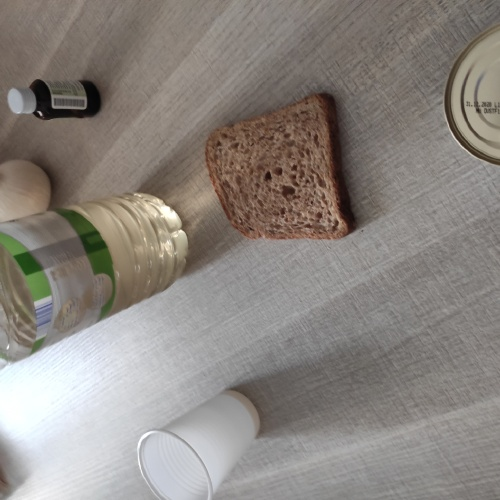cipolla: (3, 155, 57, 223)
pane: (200, 88, 359, 246)
